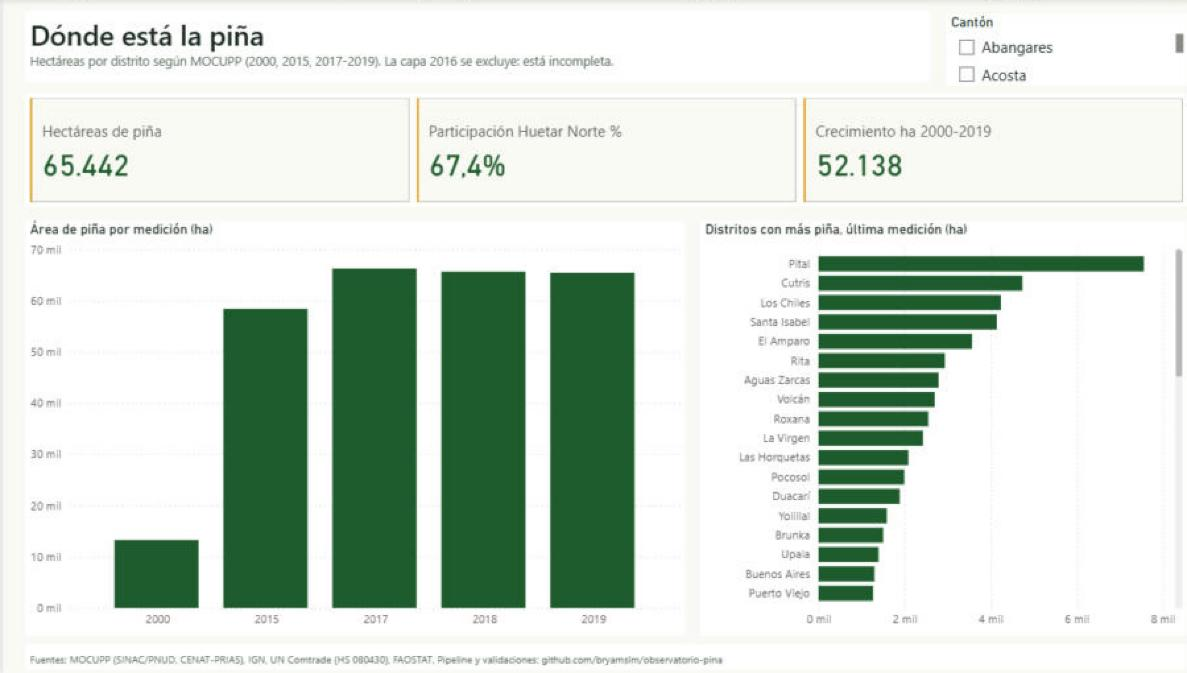

The dashboard page shown, as its layout file describes it:
{"tool":"powerbi","page":{"name":"2 · Territorio","canvas":[1280,720],"ordinal":1},"visuals":[{"type":"textbox","box":[24,12,960,76],"z":1000},{"type":"slicer","title":"Cantón","fields":{"Values":["Distrito.canton"]},"box":[1000,16,256,76],"z":2000},{"type":"cardVisual","fields":{"Data":["Medidas.Hectáreas de piña","Medidas.Participación Huetar Norte %","Medidas.Crecimiento ha 2000-2019"]},"box":[24,100,1232,120],"z":3000},{"type":"clusteredColumnChart","title":"Área de piña por medición (ha)","fields":{"Category":["Año.anio"],"Y":["Medidas.Hectáreas de piña"]},"box":[24,236,700,440],"z":4000},{"type":"clusteredBarChart","title":"Distritos con más piña, última medición (ha)","fields":{"Category":["Distrito.distrito"],"Y":["Medidas.Hectáreas de piña"]},"box":[740,236,516,440],"z":5000},{"type":"textbox","box":[24,684,1232,28],"z":9000}]}

Visuals, with their boxes in screenshot pixels (x1, y1, x2, y2), scaled from the page's 1280x720 canvas onto the 1187x673 screenshot:
textbox: region(22, 11, 913, 82)
"Cantón" slicer: region(927, 15, 1165, 86)
cardVisual - Medidas.Hectáreas de piña x Medidas.Participación Huetar Norte %: region(22, 93, 1165, 206)
"Área de piña por medición (ha)" clusteredColumnChart: region(22, 221, 671, 632)
"Distritos con más piña, última medición (ha)" clusteredBarChart: region(686, 221, 1165, 632)
textbox: region(22, 639, 1165, 666)
